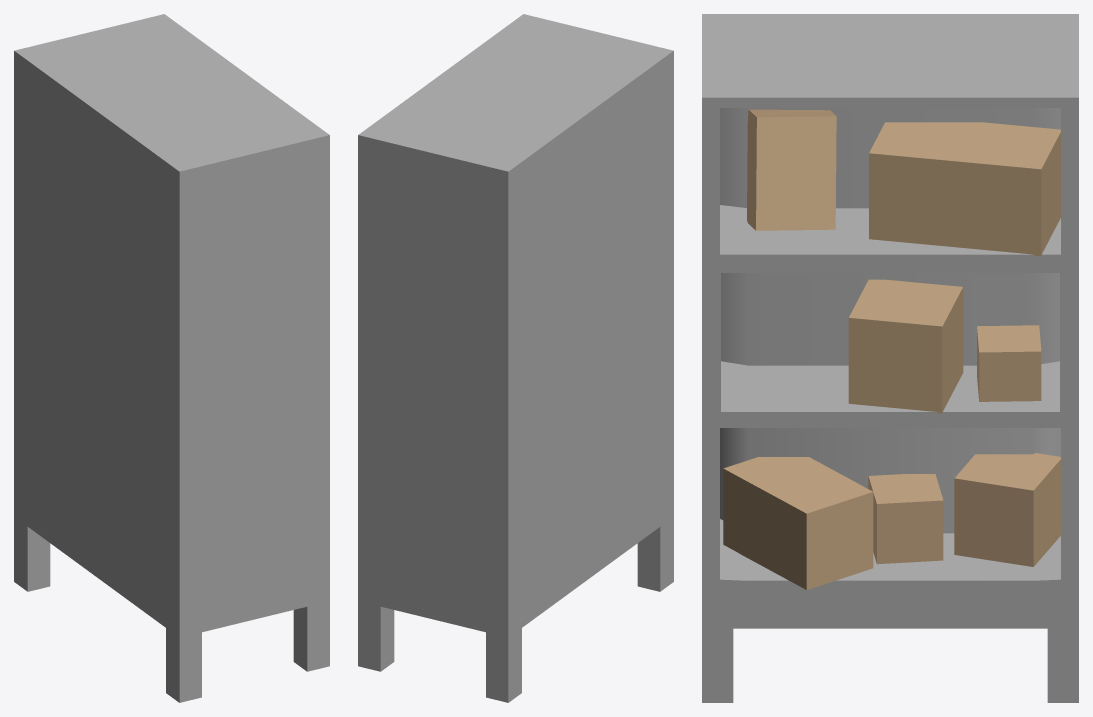
File: scaffale.fbx
The picture shows the model from 3 angles, left to right: view 1: azimuth 30°, elevation 25°; view 2: azimuth 150°, elevation 25°; view 3: azimuth 270°, elevation 25°; orthographic projection. The views are drawn at different scales.
Parts seen in each view (by area): view 1: polySurface4; view 2: polySurface4; view 3: polySurface4.
Boxes of the visible parts, x1,y1,x2,y2 form: polySurface4: (14, 14, 329, 702); polySurface4: (358, 14, 673, 702); polySurface4: (702, 14, 1078, 702).
Bounding box in the file's own units: 2.36 × 7.09 × 4.
